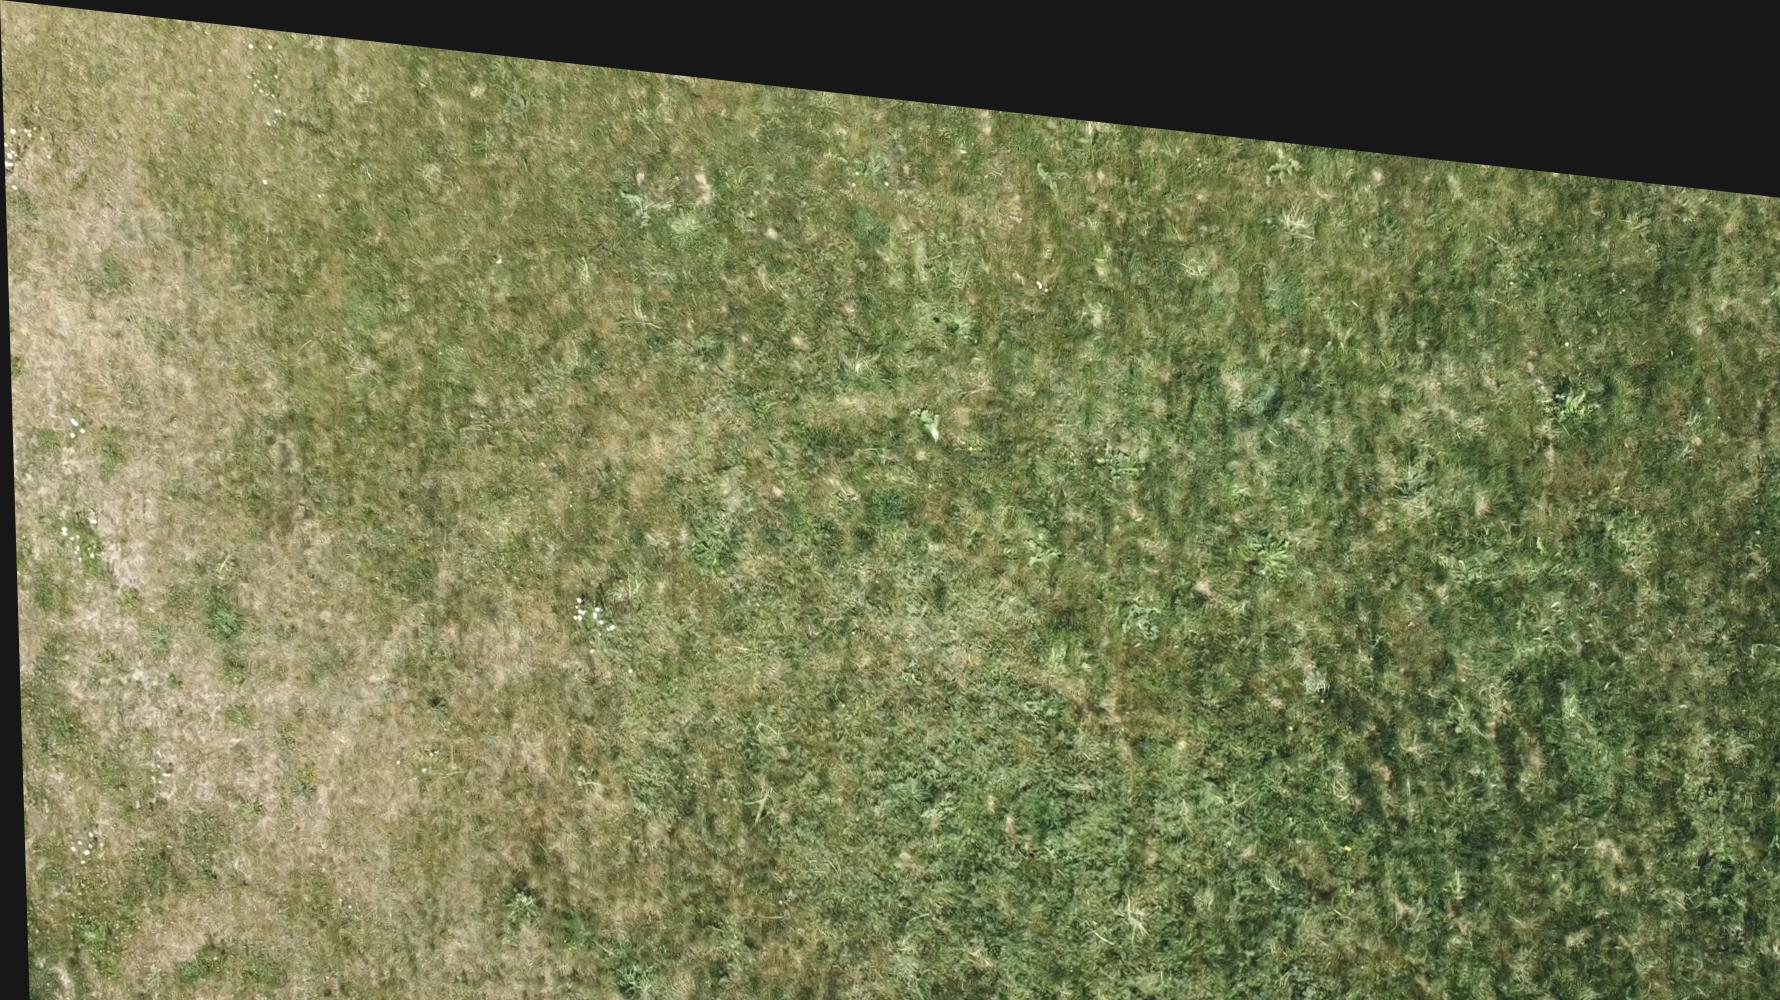Blue: (1685, 971, 1762, 1000)
